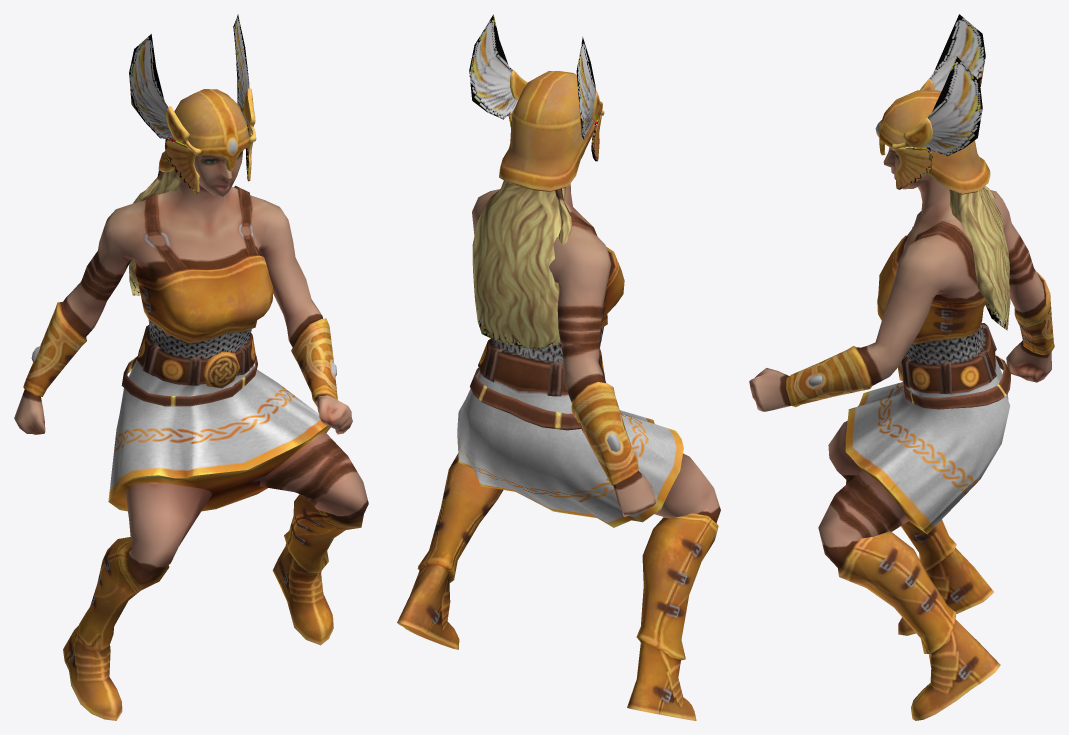
The model's file is rider-slice-disablot.glb.
3 views of the same model, side by side, from view 1: azimuth 30°, elevation 25°; view 2: azimuth 150°, elevation 25°; view 3: azimuth 270°, elevation 25° (orthographic). The views are drawn at different scales.
Bounding box in the file's own units: 0.9654 × 2.22 × 0.9404.
1 material, 1 textured.
